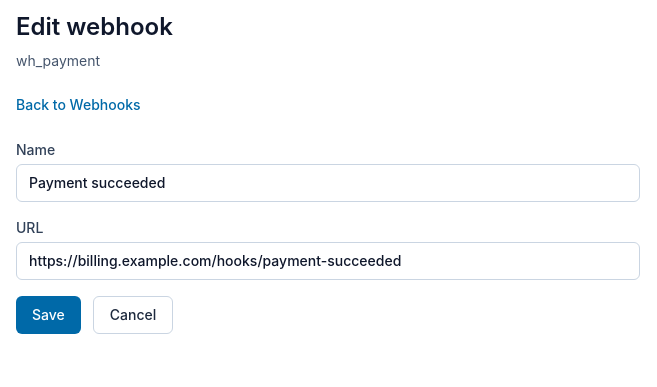
Scenario: WebhookEditPage › shows a server validation error beside the matching field
The image size is (657, 387).
Click the button "Save".
click(48, 315)  # box 16,296 -> 81,334
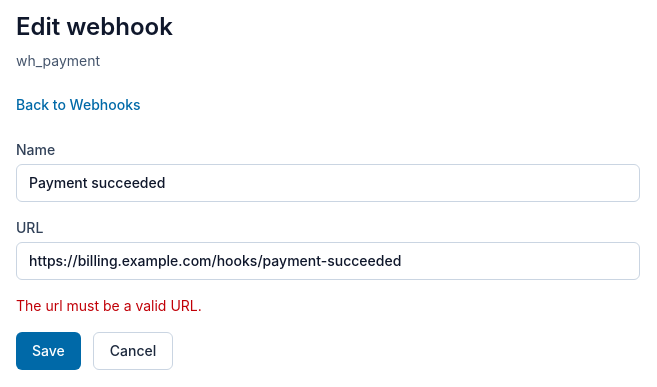
Now the text "The url must be a valid URL." is shown, box 16,297 -> 202,314
